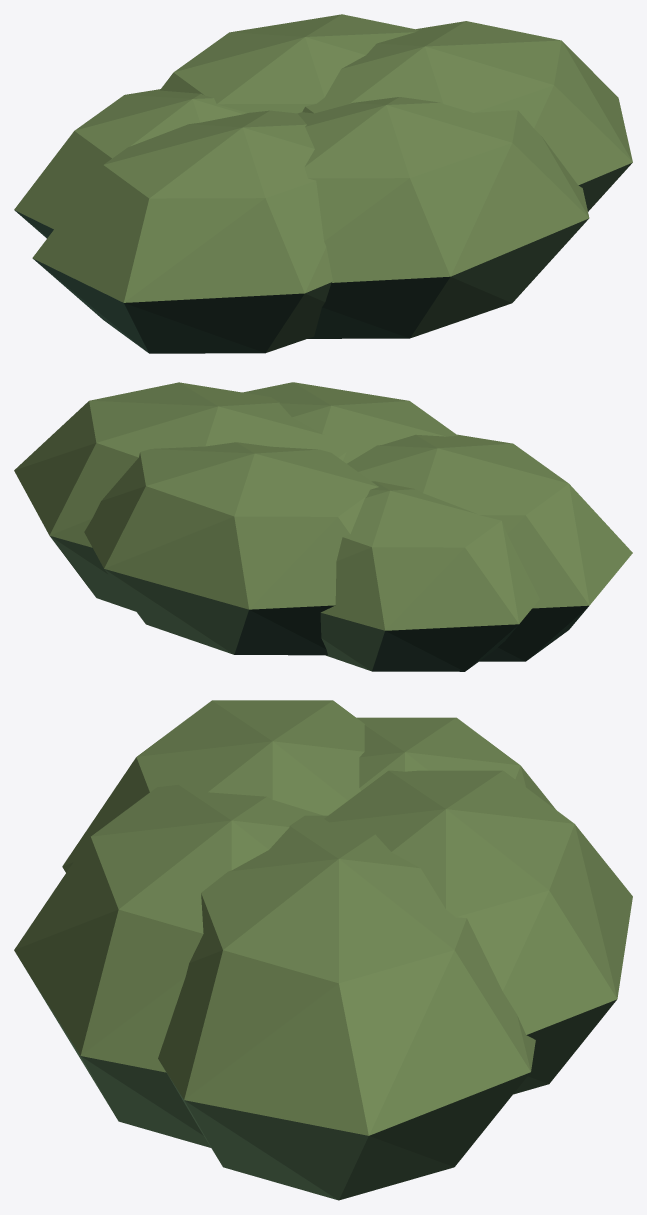
File: TW_SHRUB_SPREAD_A_LOD0.glb
The picture shows the model from 3 angles, top to bottom: view 1: azimuth 30°, elevation 25°; view 2: azimuth 150°, elevation 25°; view 3: azimuth 270°, elevation 25°; orthographic projection. The views are drawn at different scales.
Visible parts, largest first — view 1: TW_SHRUB_SPREAD_A_LOD0; view 2: TW_SHRUB_SPREAD_A_LOD0; view 3: TW_SHRUB_SPREAD_A_LOD0.
Boxes of the visible parts, box(x1,y1,x2,y2) form: TW_SHRUB_SPREAD_A_LOD0: box(14, 14, 632, 353); TW_SHRUB_SPREAD_A_LOD0: box(14, 382, 632, 671); TW_SHRUB_SPREAD_A_LOD0: box(14, 700, 632, 1200).
Bounding box in the file's own units: 1.4 × 0.5 × 0.95.
Materials: 1 (1 with a texture image).
